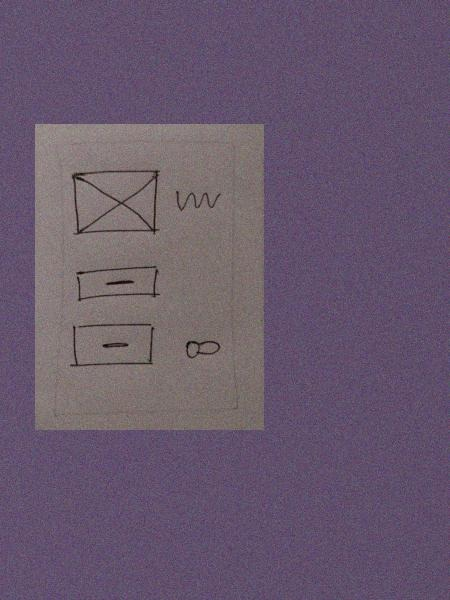button: (69, 320, 157, 368), (73, 266, 163, 304)
image: (69, 170, 162, 237)
switch: (180, 337, 224, 362)
text: (172, 185, 224, 215)
